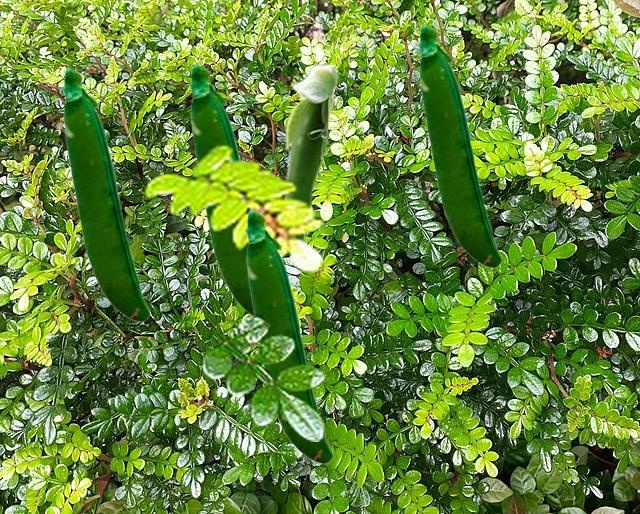pea: (244, 208, 332, 463), (61, 66, 149, 321), (417, 23, 501, 267), (188, 62, 252, 314), (283, 63, 338, 240)
